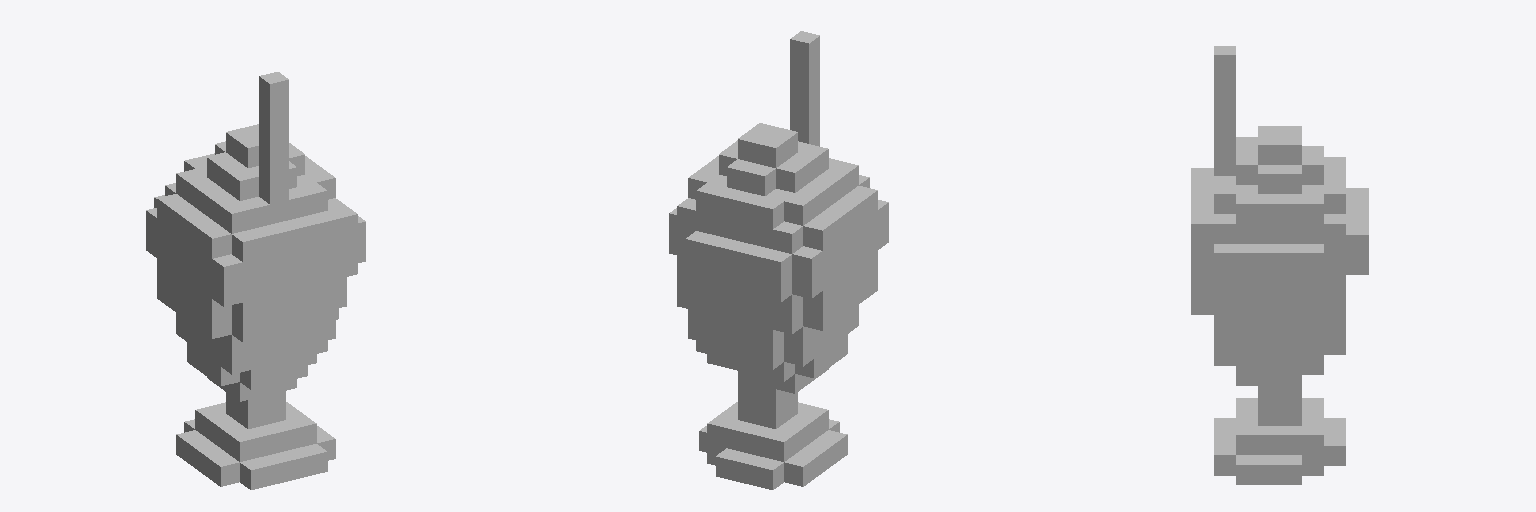
The model's file is VanillaMilkShake.obj.
3 views of the same model, side by side, from view 1: azimuth 30°, elevation 25°; view 2: azimuth 150°, elevation 25°; view 3: azimuth 270°, elevation 25° (orthographic).
Parts seen in each view (by area): view 1: object 1; view 2: object 1; view 3: object 1.
Boxes of the visible parts, box(x1,y1,x2,y2) form: object 1: box(146, 72, 365, 489); object 1: box(669, 31, 888, 489); object 1: box(1191, 46, 1368, 484).
Bounding box in the file's own units: 0.8 × 2 × 0.8.